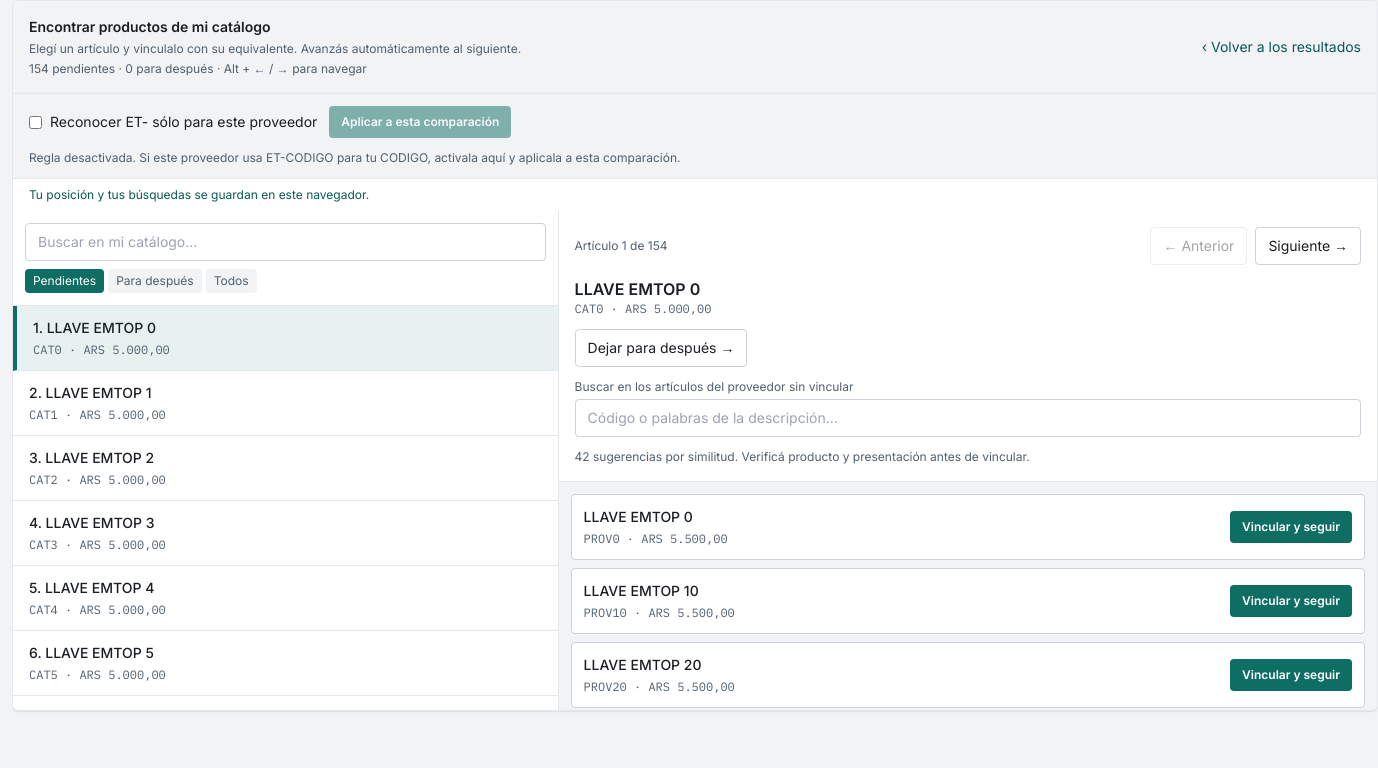
Test: revisión continua del catálogo › bloquea doble guardado y navegación mientras se vincula
This screenshot has width=1378, height=768.
Step 1. Click the button "Vincular y seguir" in the row of "PROV0" → (1291, 527), box [1230,511,1352,543]
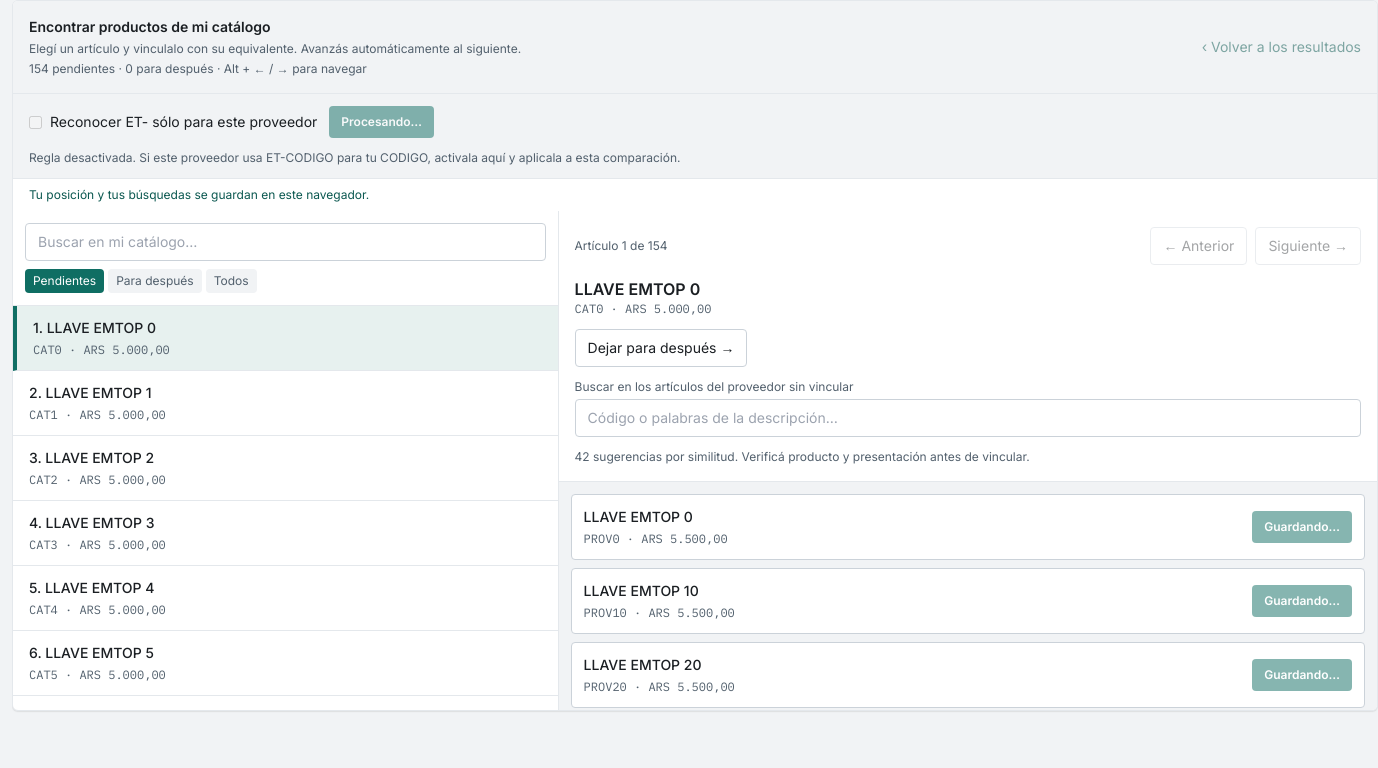
Expected: the button "Siguiente →" is disabled, [1255,227,1361,265]
Step 2. Click the button "Guardando…" in the row of "PROV0" → (1302, 527), box [1252,511,1352,543]
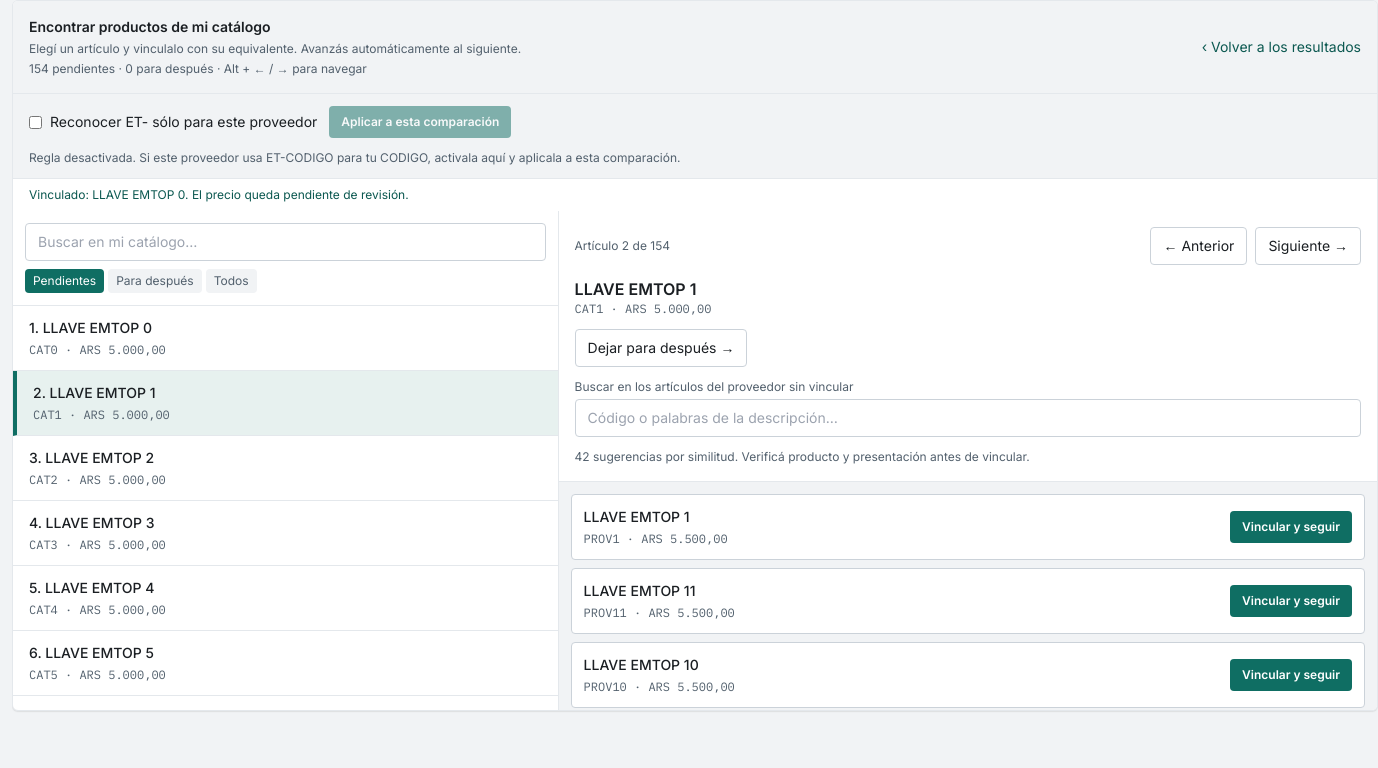
Expected: the heading "LLAVE EMTOP 1" is shown, [575,279,696,299]
